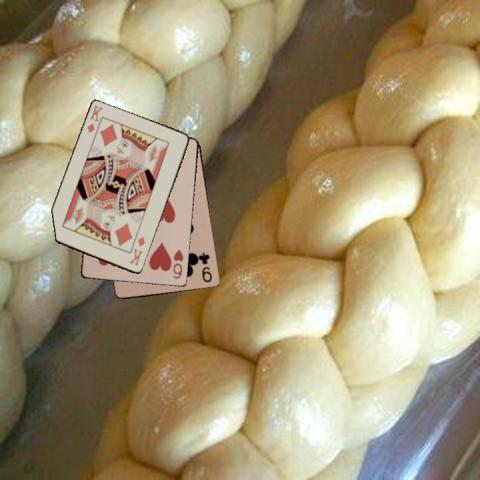6h: (170, 246, 185, 280)
9c: (198, 250, 213, 284)
Kd: (126, 234, 146, 267), (84, 103, 104, 134)
